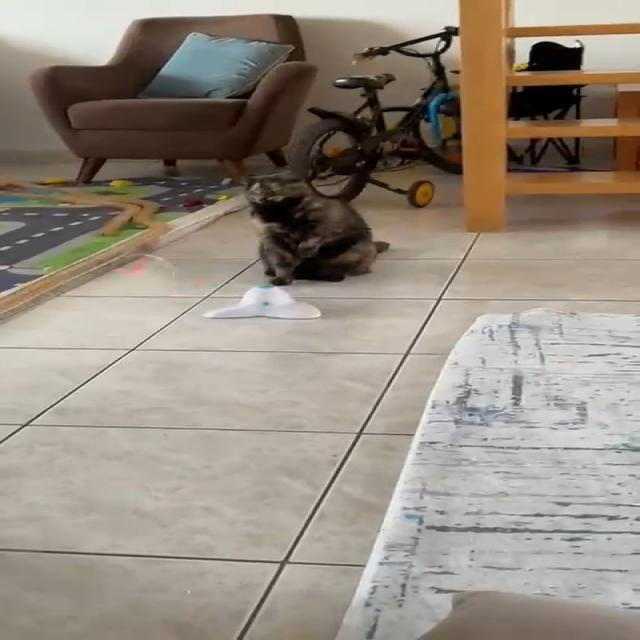authorized: (242, 169, 390, 285)
